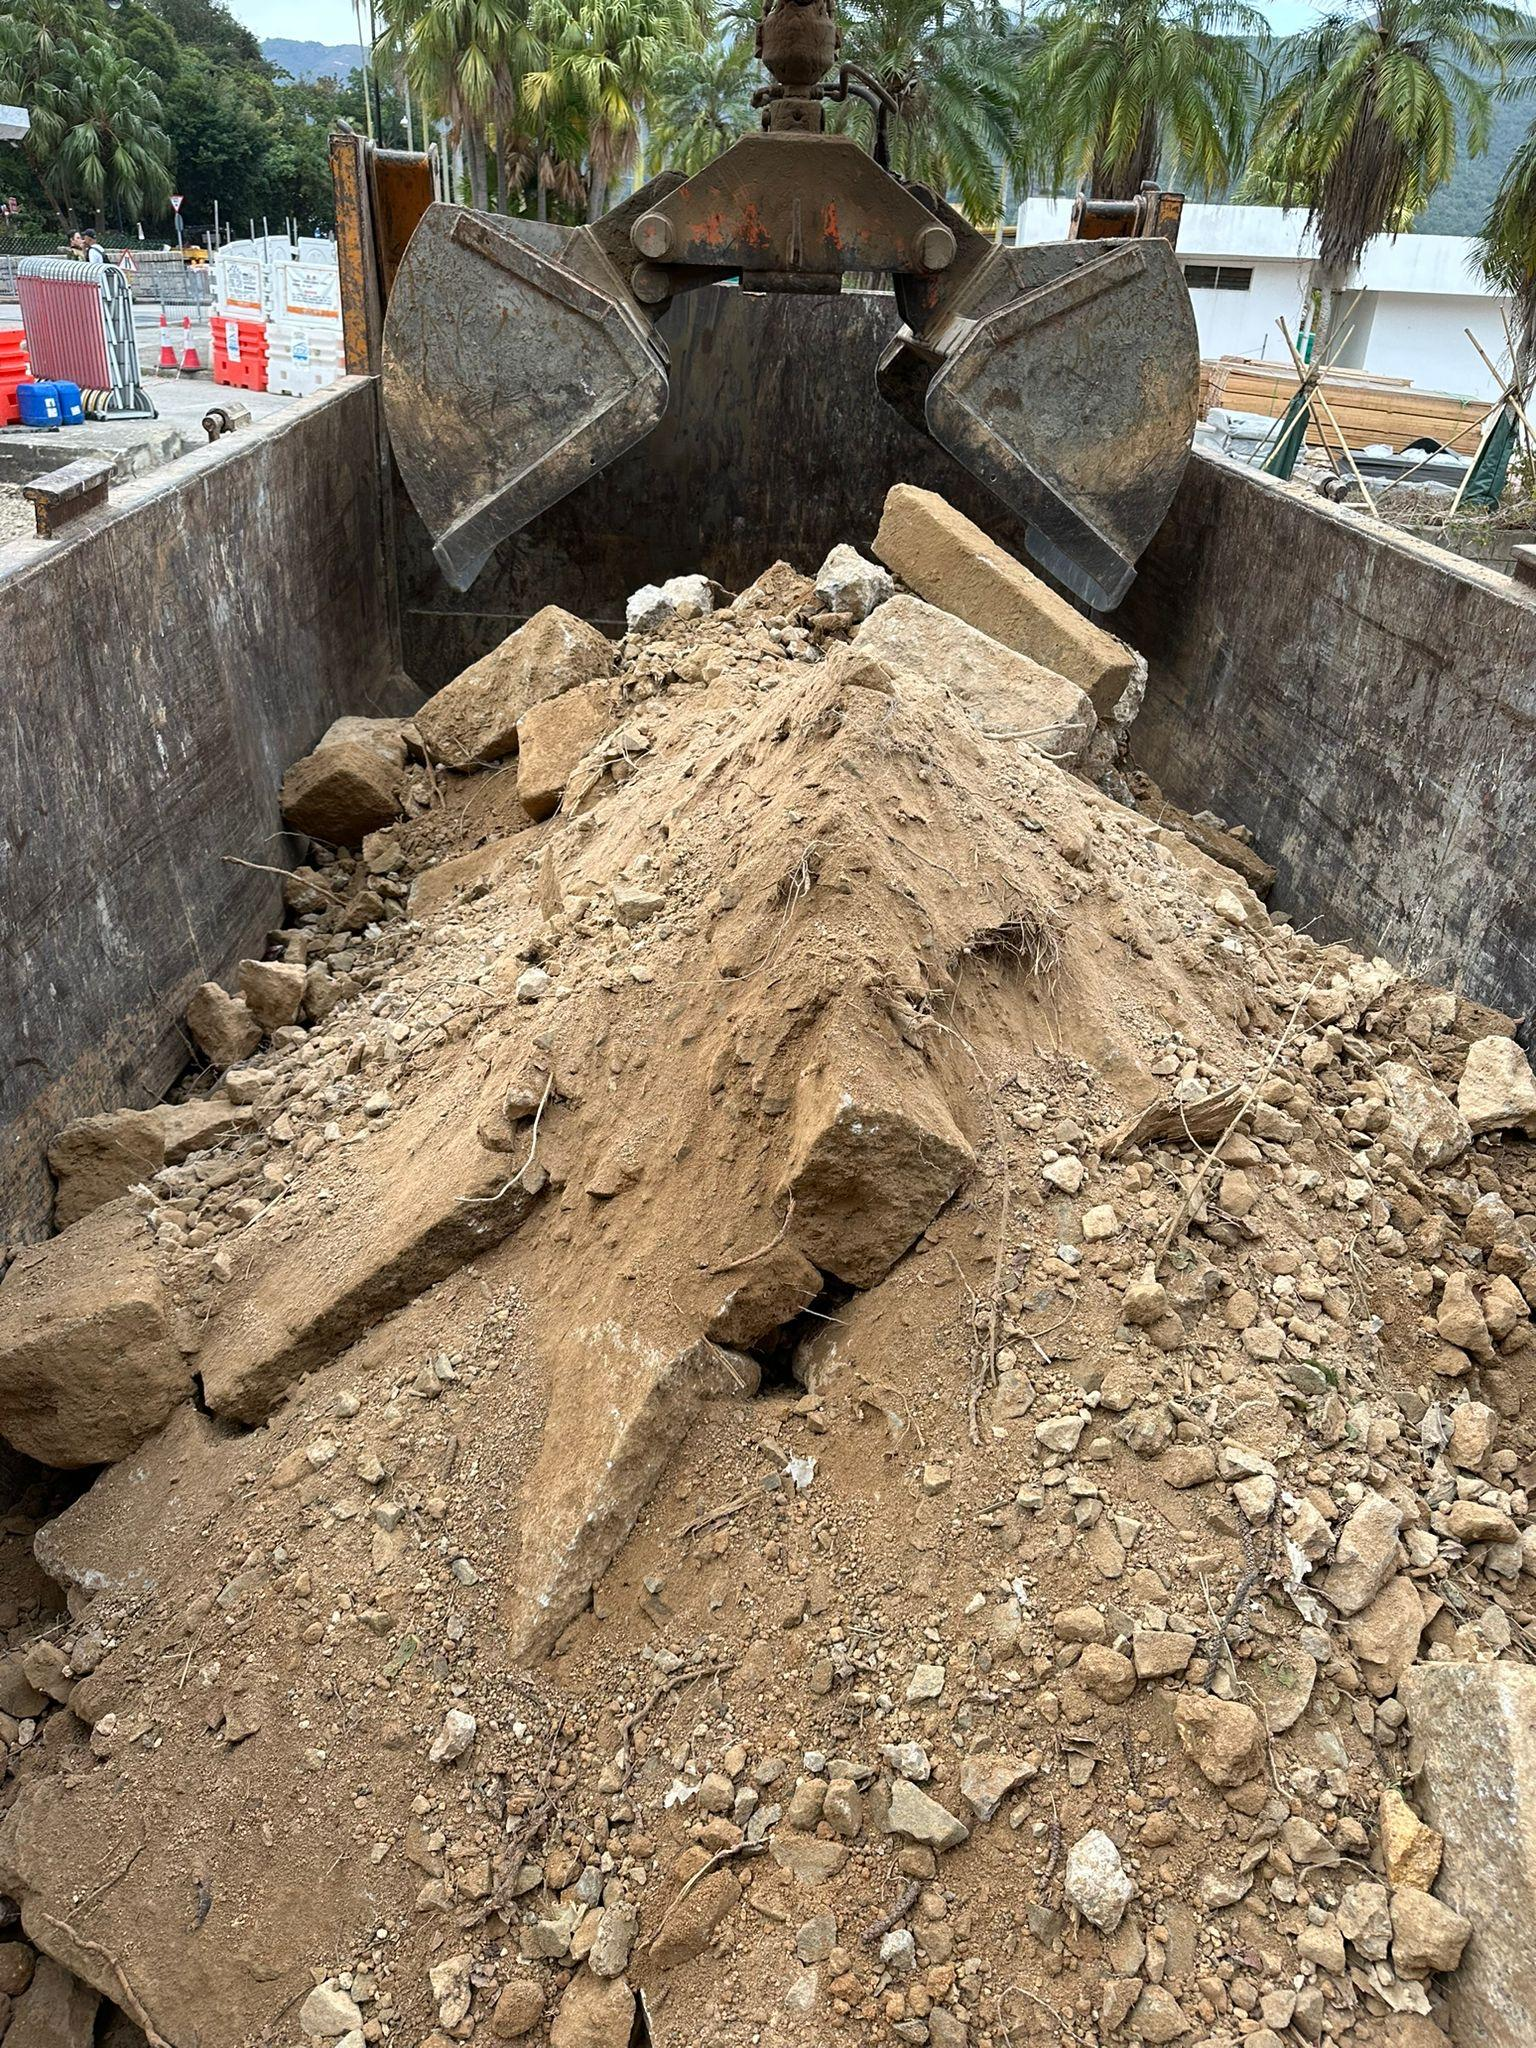dry: (0, 534, 1530, 2048)
